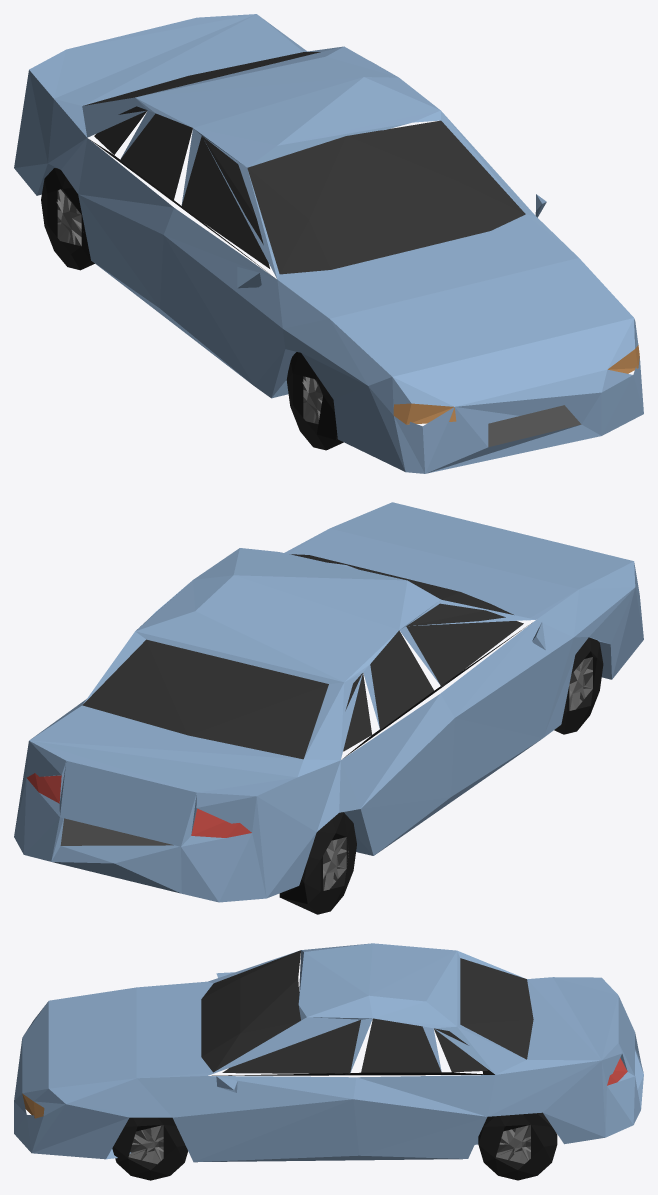
File: quaternius-normal-car-1-parked.glb
3 views of the same model, one above another, from view 1: azimuth 30°, elevation 25°; view 2: azimuth 150°, elevation 25°; view 3: azimuth 270°, elevation 25° (orthographic). The views are drawn at different scales.
Visible parts, largest first — view 1: NormalCar1_Cube.012; view 2: NormalCar1_Cube.012; view 3: NormalCar1_Cube.012.
Boxes of the visible parts, x1,y1,x2,y2 form: NormalCar1_Cube.012: [14, 14, 643, 473]; NormalCar1_Cube.012: [14, 502, 643, 914]; NormalCar1_Cube.012: [14, 943, 643, 1180].
Bounding box in the file's own units: 1.79 × 1.18 × 4.18.
